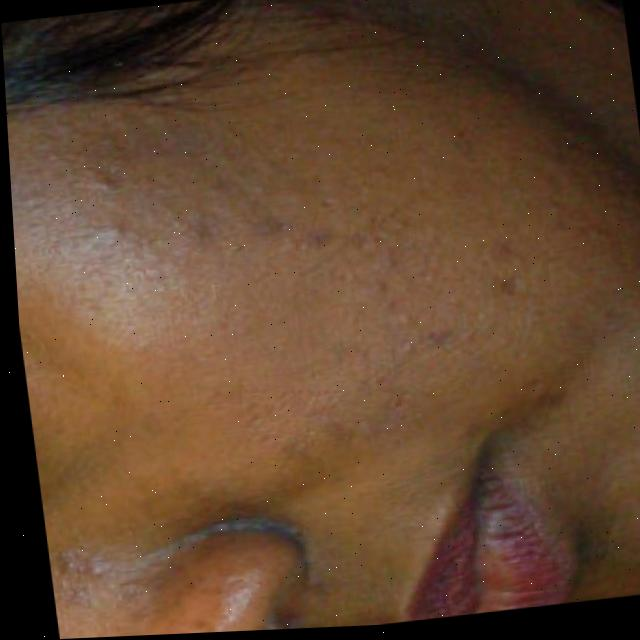Acne: (49, 90, 534, 461)
